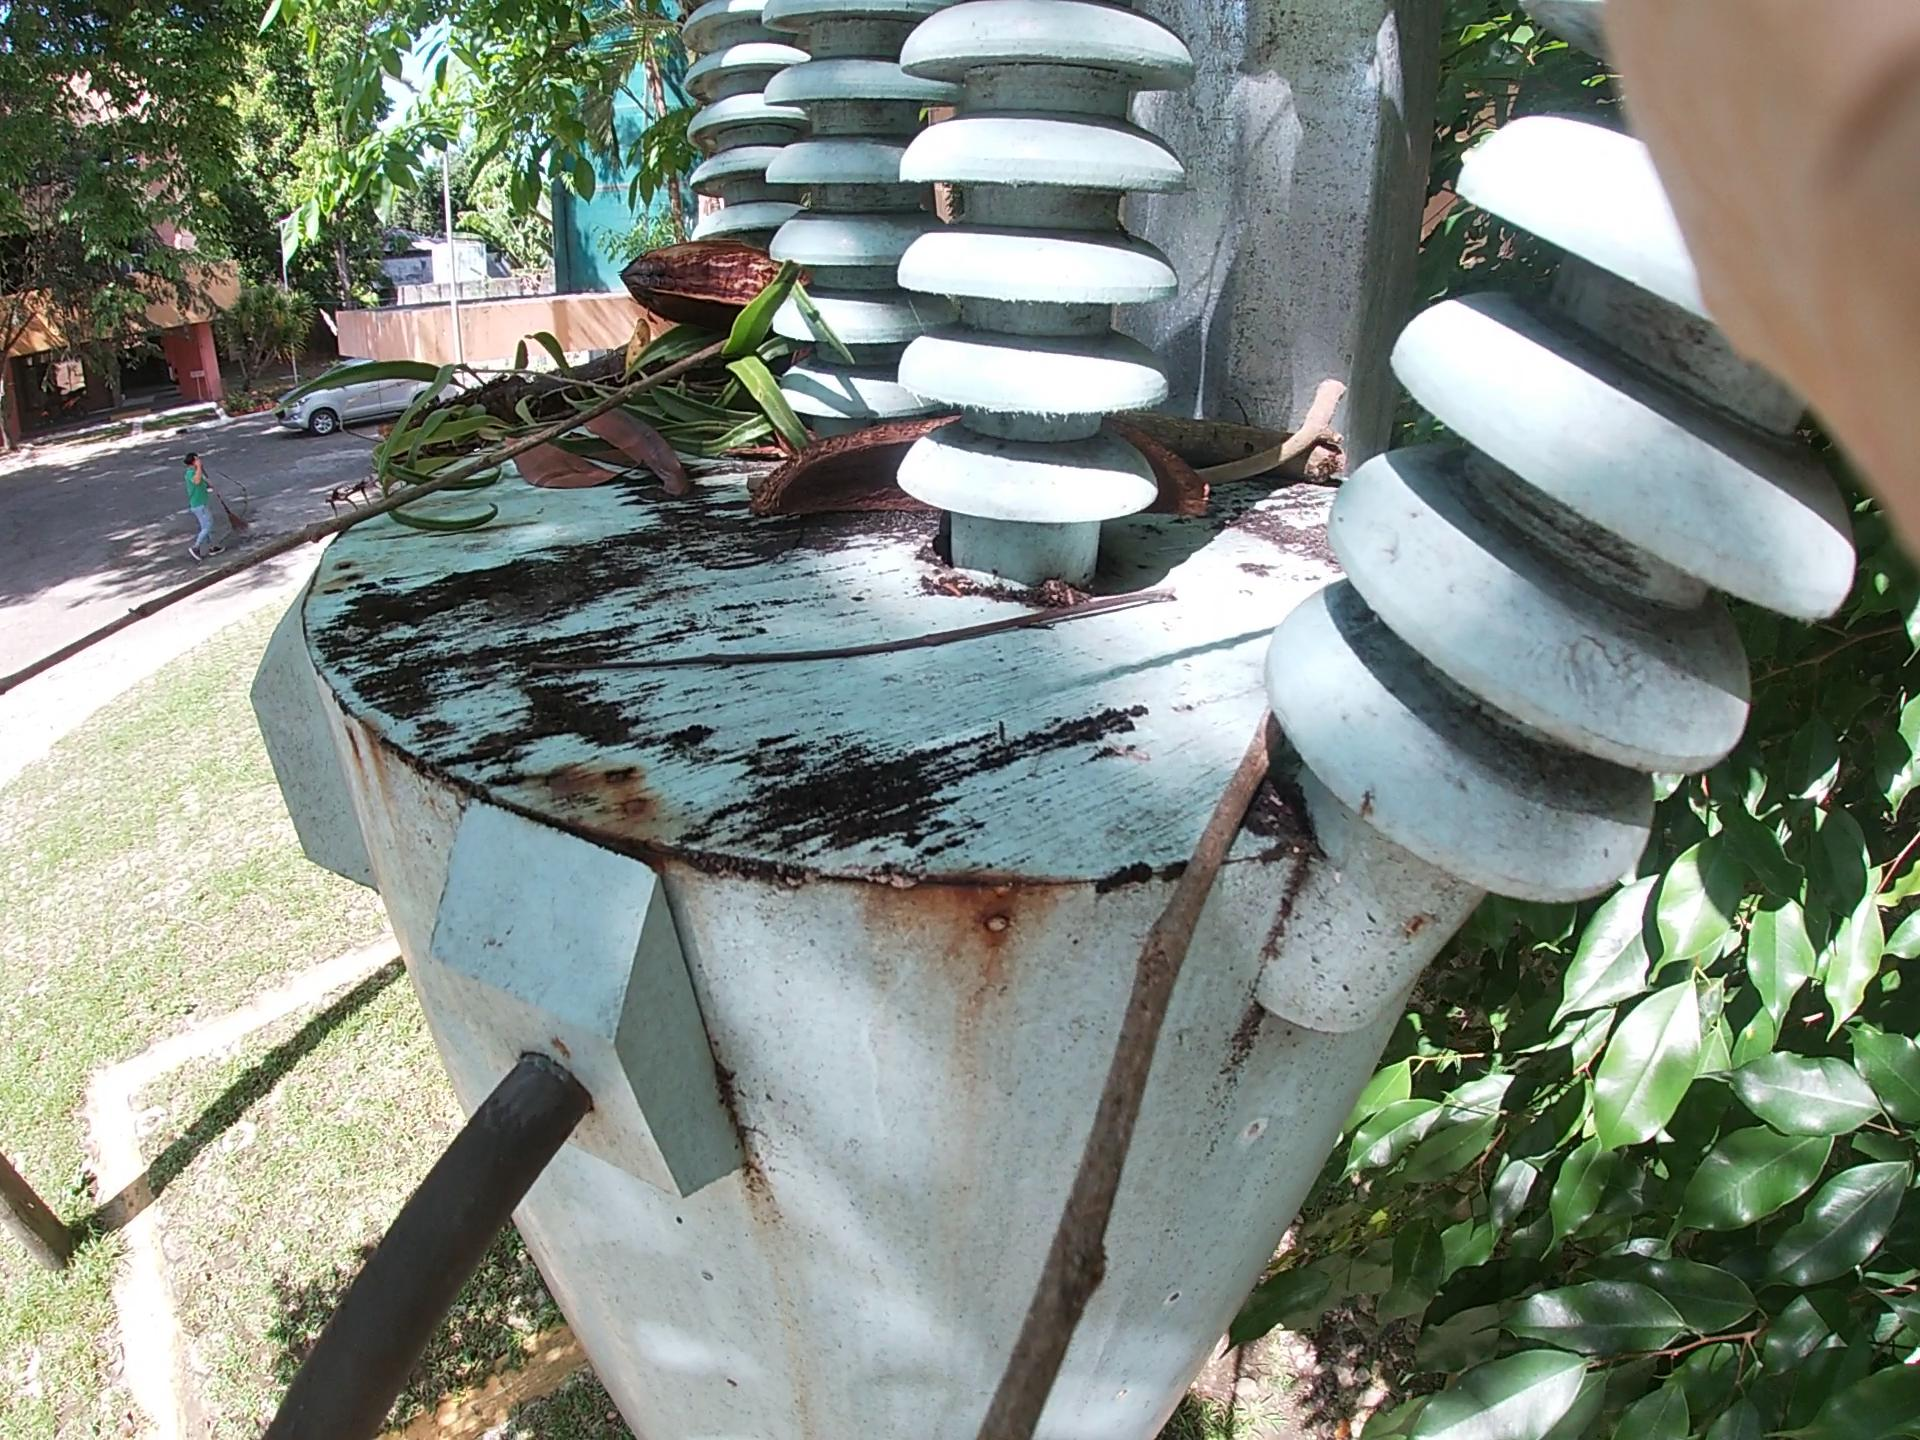branch with leaves: (325, 321, 800, 504)
leaf: (475, 389, 674, 476)
mahogany fruit: (636, 209, 901, 375), (729, 430, 954, 582)
tree branch: (45, 343, 721, 656), (999, 697, 1265, 1414), (1137, 362, 1451, 486), (661, 597, 1212, 666)
